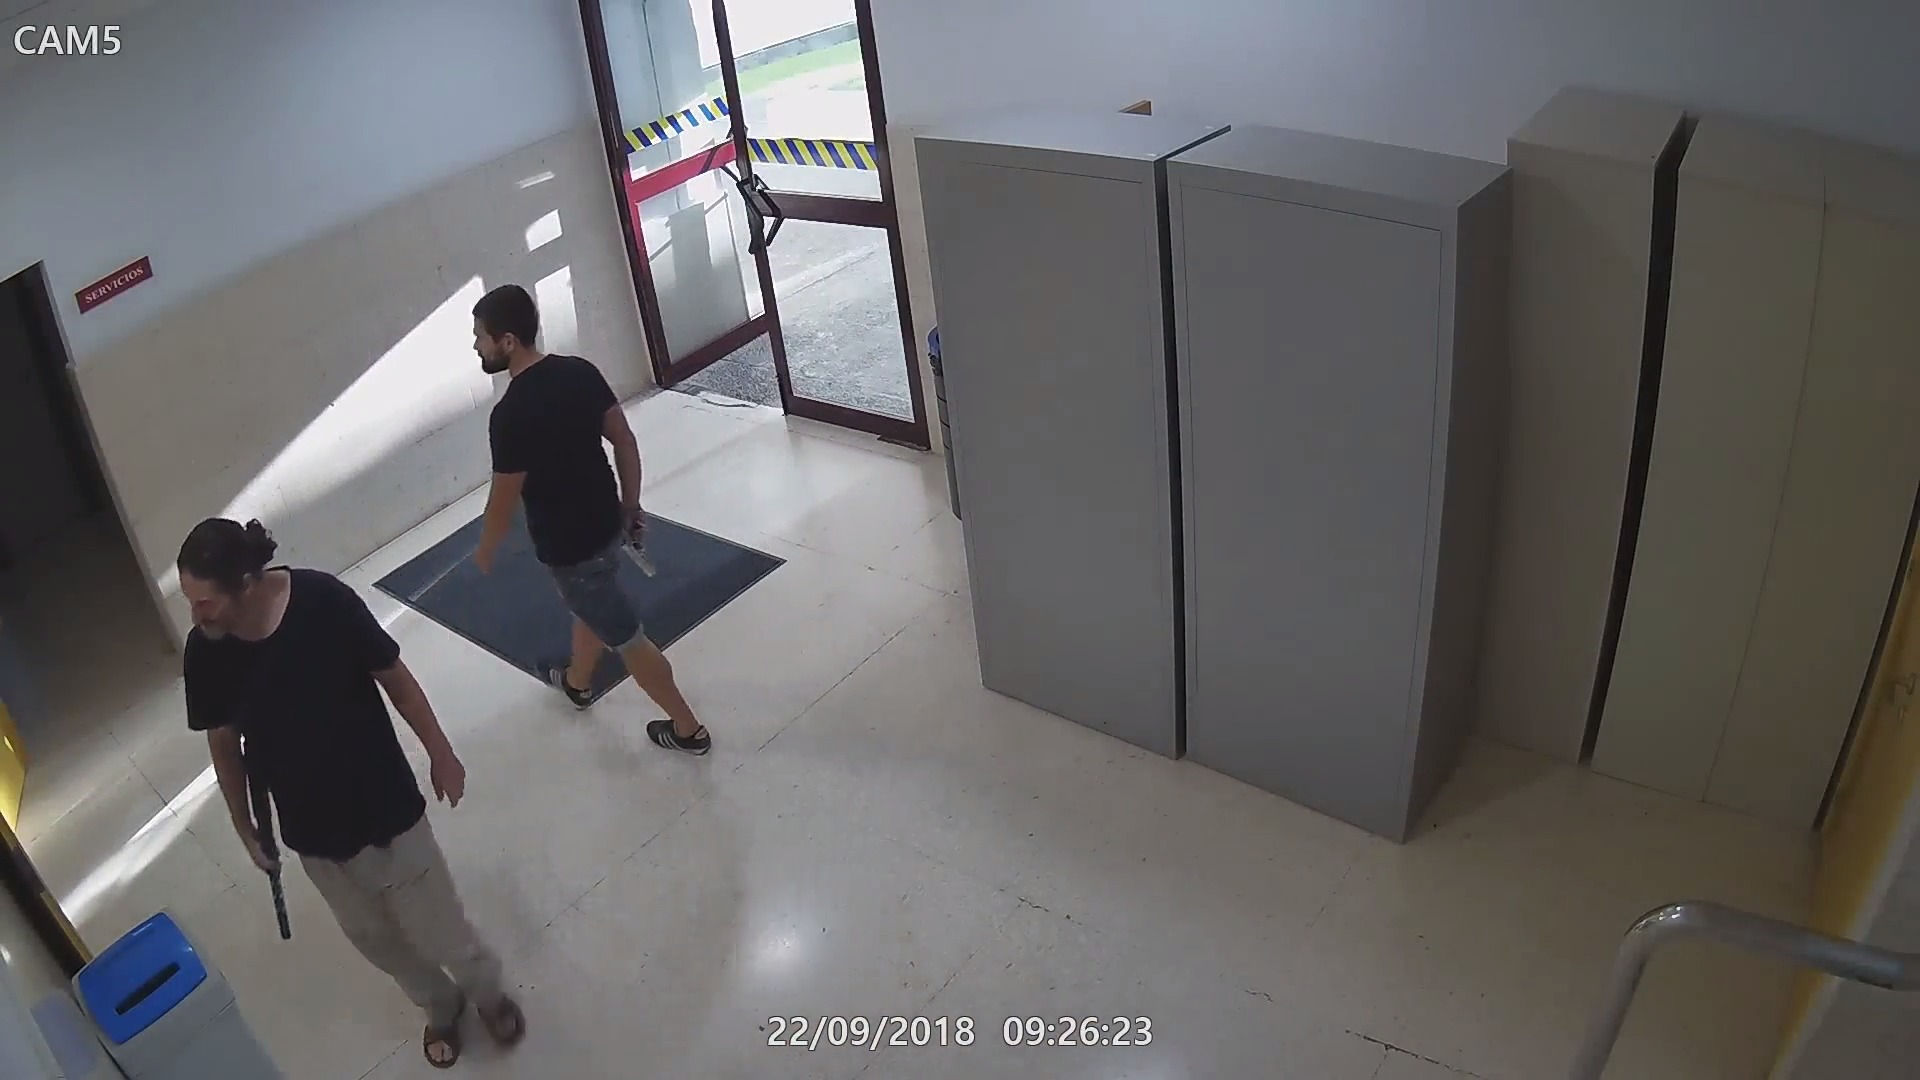Handgun: (622, 516, 661, 582)
Short_rifle: (243, 741, 302, 943)
